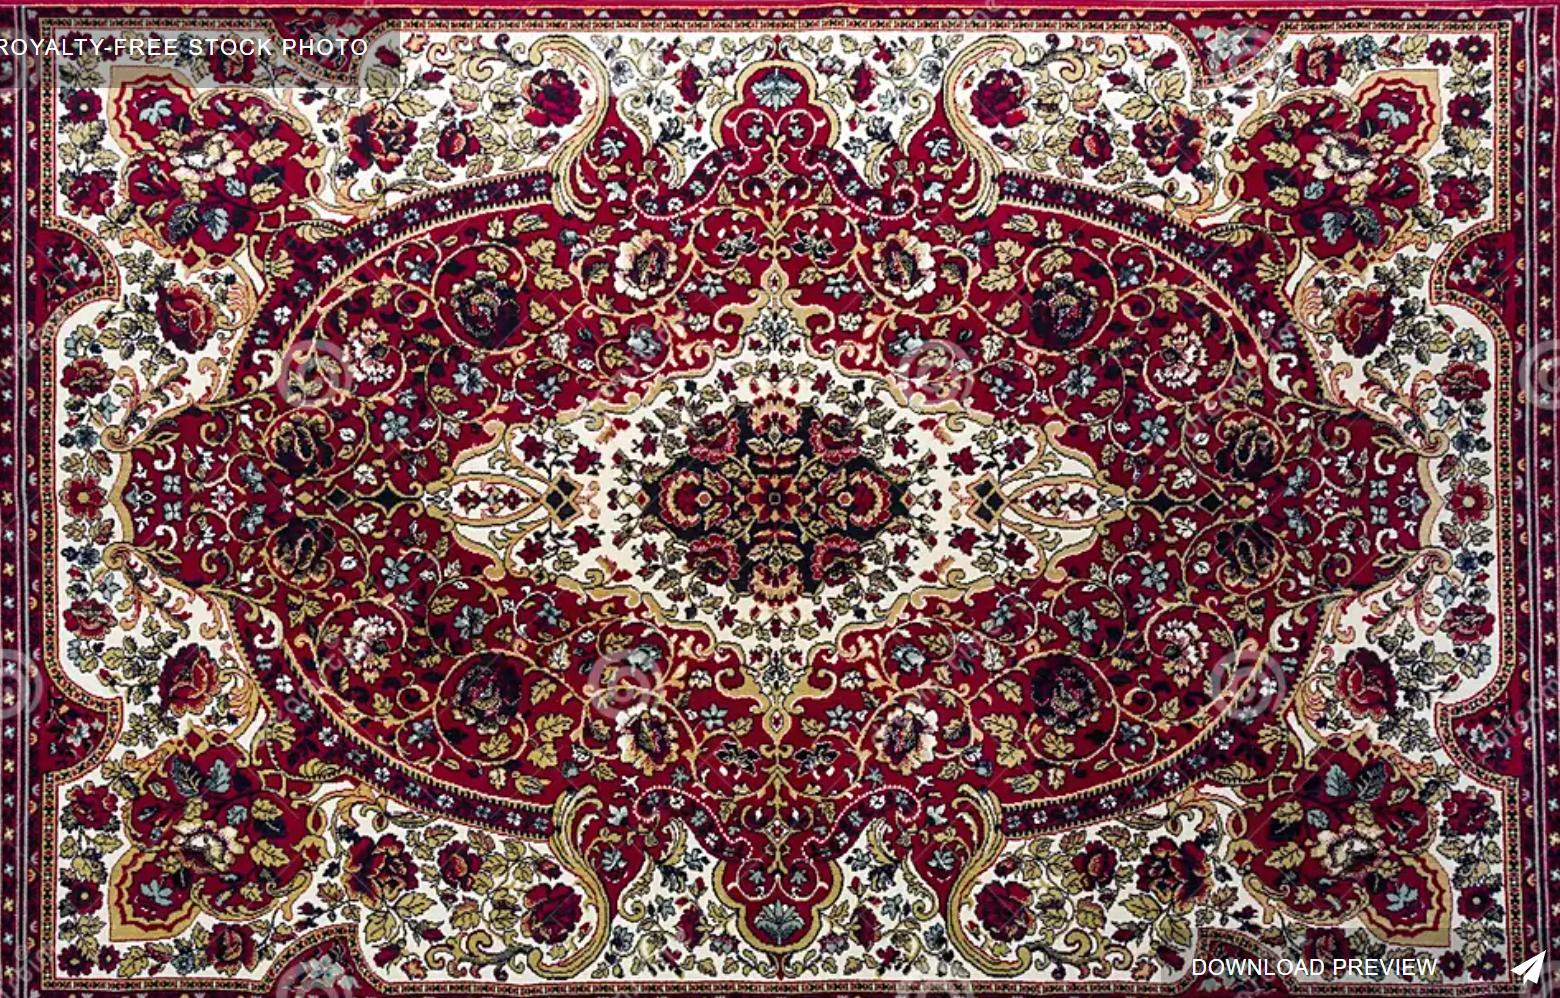carpet: (0, 6, 1560, 990)
